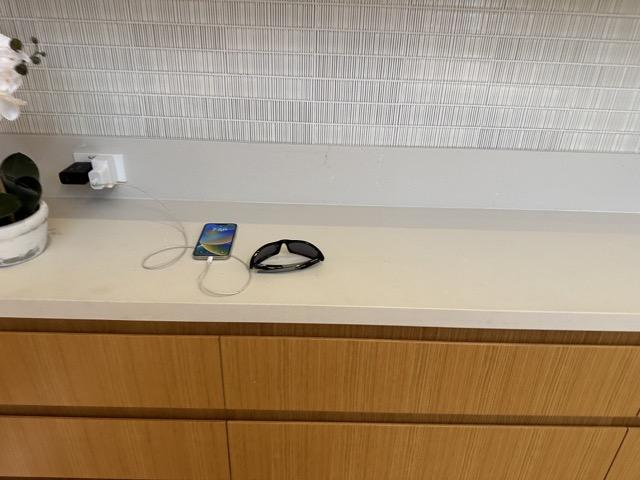Sunglasses: (250, 238, 326, 273)
